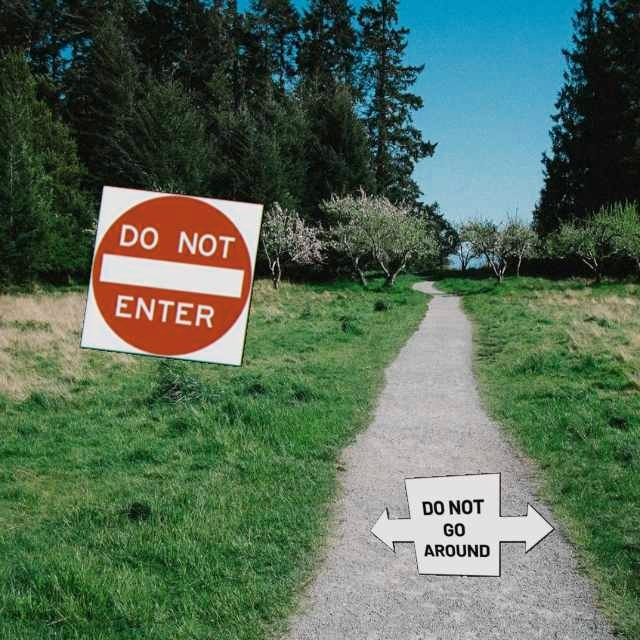DO_NOT_ENTER: (79, 184, 265, 367)
DO_NOT_GO_AROUND: (369, 472, 555, 577)
